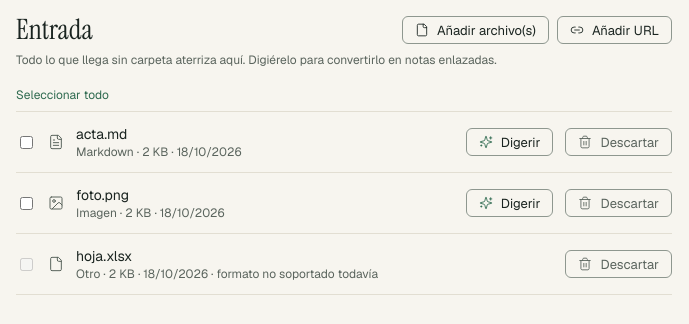
Test: InboxView › the area menu lists the areas plus the vault root and highlights the last used one
What coordinates should you click on to do the following:
click the button with test id "digest-acta.md"
I would click on:
 (510, 142)
Its box is [466,128,554,156].
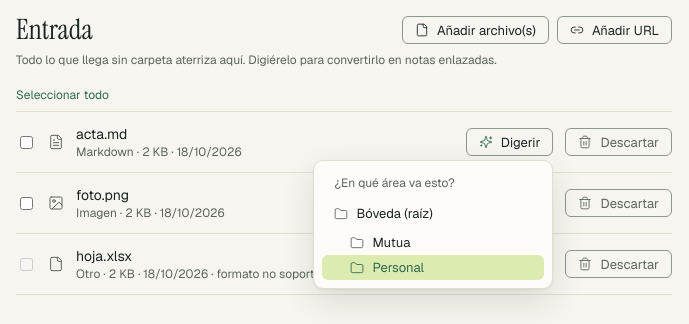
Expected: the menu with test id "area-menu" shows "Mutua", [346,230,544,255]
Expected: the menu with test id "area-menu" shows "Bóveda (raíz)", [322,201,544,226]
